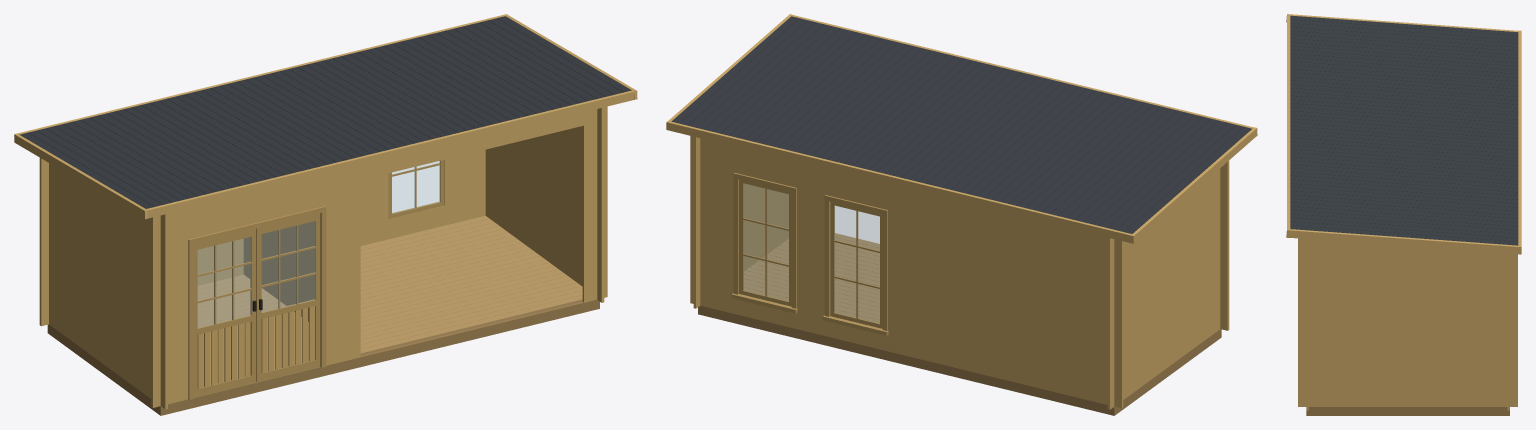
Rendered from элвис_2_7_5_8_34_мм_крытая_терраса.glb.
3 views of the same model, side by side, from view 1: azimuth 30°, elevation 25°; view 2: azimuth 150°, elevation 25°; view 3: azimuth 270°, elevation 25° (orthographic). The views are drawn at different scales.
Visible parts, largest first — view 1: walls, roof, floor, Элвис 2,7×5,8 (34 мм, крытая терраса), object 33, object 15, object 47, object 41, object 3, object 21, object 40, object 20 (+2 smaller); view 2: walls, roof, Элвис 2,7×5,8 (34 мм, крытая терраса), floor, object 47, object 59, object 64, object 63, object 51, object 52, object 55, object 43; view 3: roof, walls, Элвис 2,7×5,8 (34 мм, крытая терраса).
Part boxes in pixels (box(x1,y1,x2,y2)): walls: box(39, 106, 607, 409); roof: box(14, 14, 637, 219); floor: box(197, 215, 582, 386); Элвис 2,7×5,8 (34 мм, крытая терраса): box(47, 299, 599, 415); object 33: box(262, 221, 314, 312); object 15: box(198, 237, 250, 327); object 47: box(392, 161, 439, 213); object 41: box(320, 206, 326, 367); object 3: box(250, 229, 256, 383); object 21: box(314, 213, 320, 367); object 40: box(188, 238, 193, 399); object 20: box(256, 227, 261, 381); walls: box(690, 136, 1229, 409); roof: box(666, 14, 1257, 243); Элвис 2,7×5,8 (34 мм, крытая терраса): box(698, 305, 1221, 415); floor: box(744, 233, 879, 322); object 47: box(743, 183, 788, 301); object 59: box(834, 206, 879, 323); object 64: box(882, 209, 887, 330); object 63: box(824, 195, 829, 316); object 51: box(733, 172, 738, 294); object 52: box(791, 187, 796, 308); object 55: box(830, 202, 834, 316); object 43: box(739, 179, 743, 294); roof: box(1286, 14, 1521, 254); walls: box(1298, 238, 1517, 410); Элвис 2,7×5,8 (34 мм, крытая терраса): box(1306, 407, 1509, 415).
Bounding box in the file's own units: 6.28 × 2.67 × 2.89.
